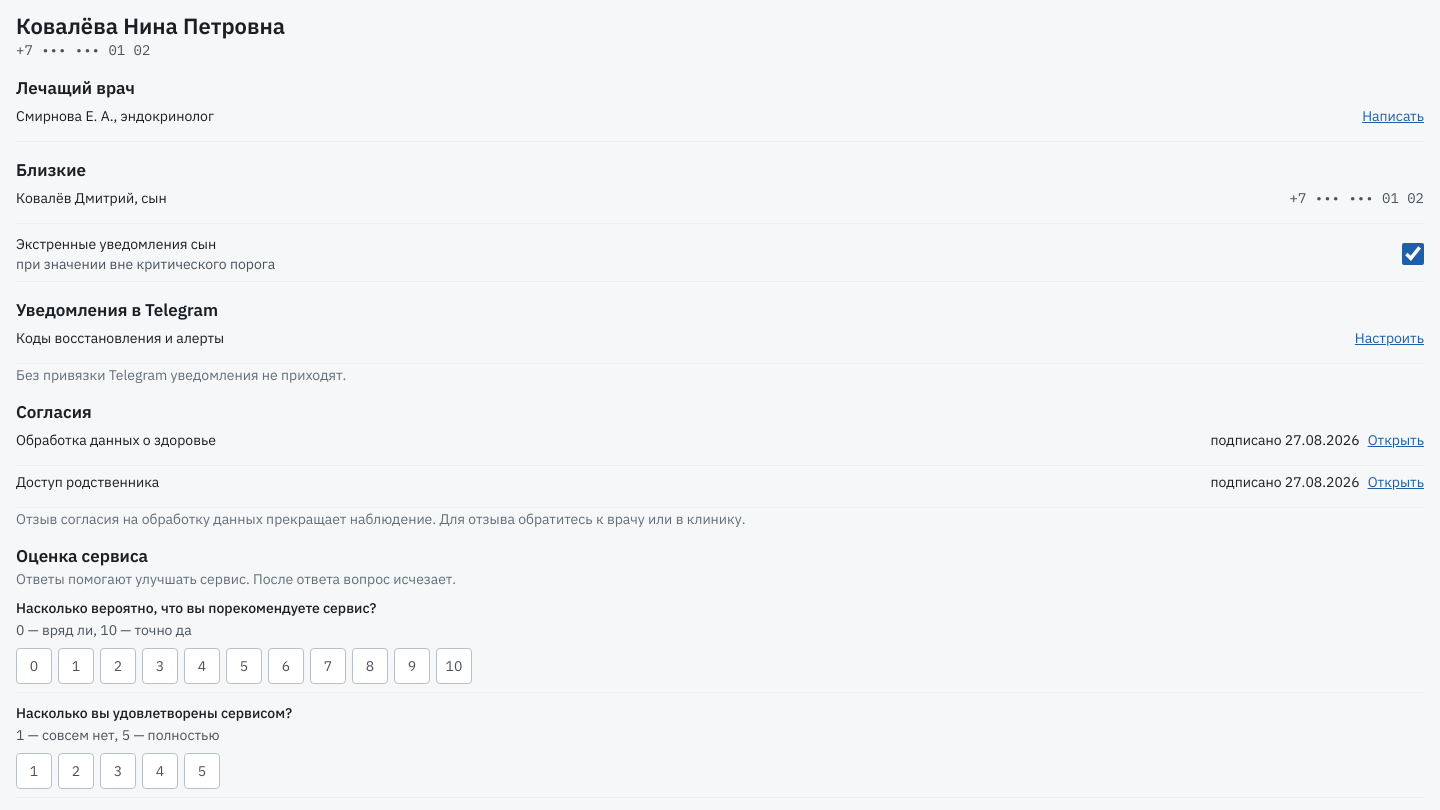
Test: PatientProfile › отправляет оценку и скрывает вопрос
Click the button "9" at (412, 666), box [394, 648, 430, 684]
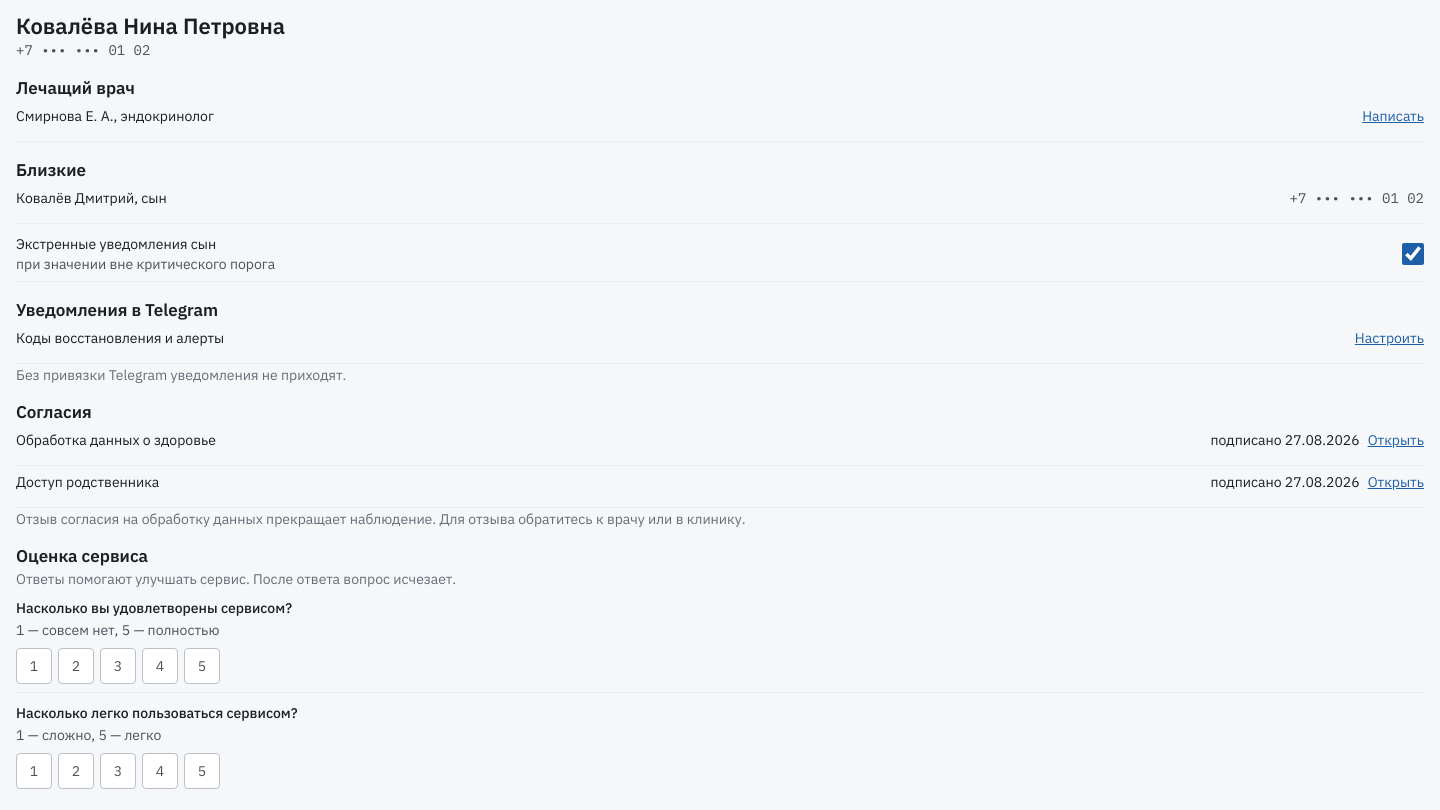
Expected: the element named "Насколько вы удовлетворены сервисом?" is shown, [16, 648, 220, 684]
Now the text "Насколько вероятно, что вы порекомендуете сервис?" is gone
